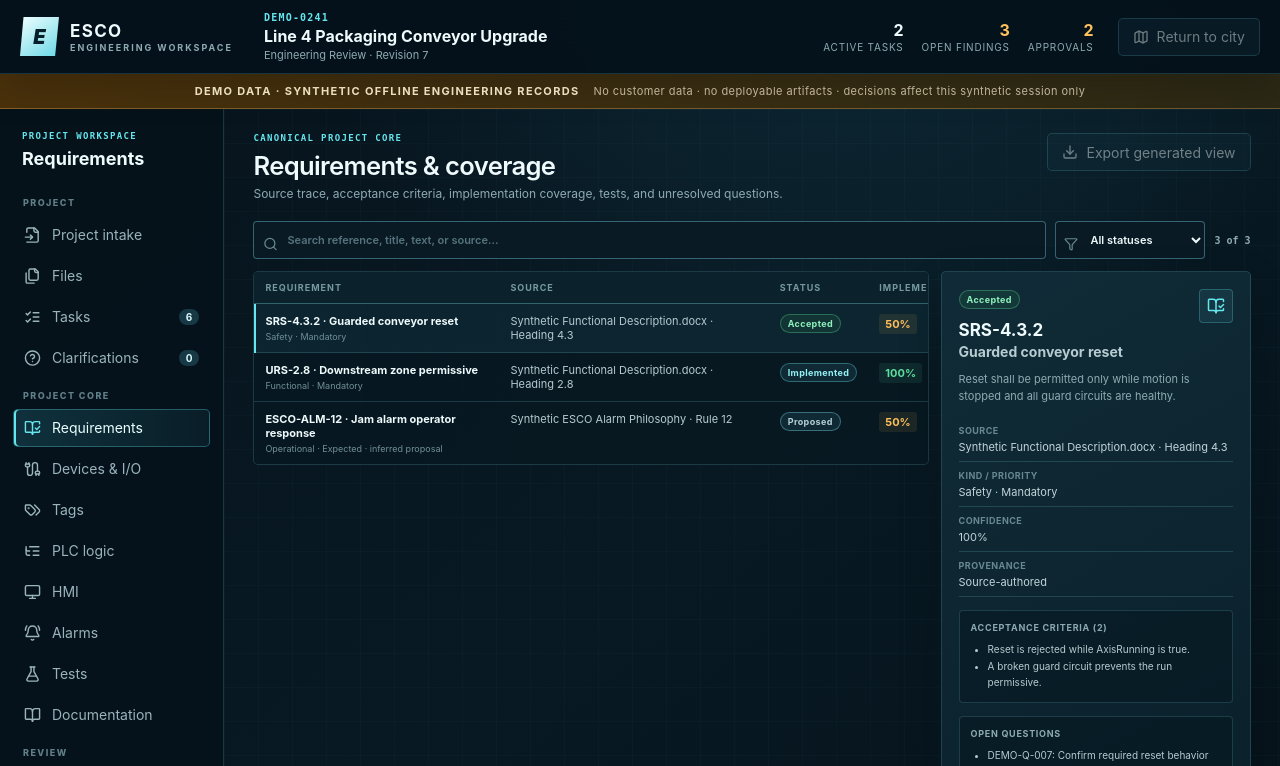
Test: EngineeringWorkspace › exposes synthetic HMI, alarm, test, and documentation records without claiming runtime verification
Later steps or results of the test are not shown.
What coordinates should you click on to do the following:
click the button "HMI"
I would click on:
 (112, 592)
Its box is left=13, top=573, right=210, bottom=611.
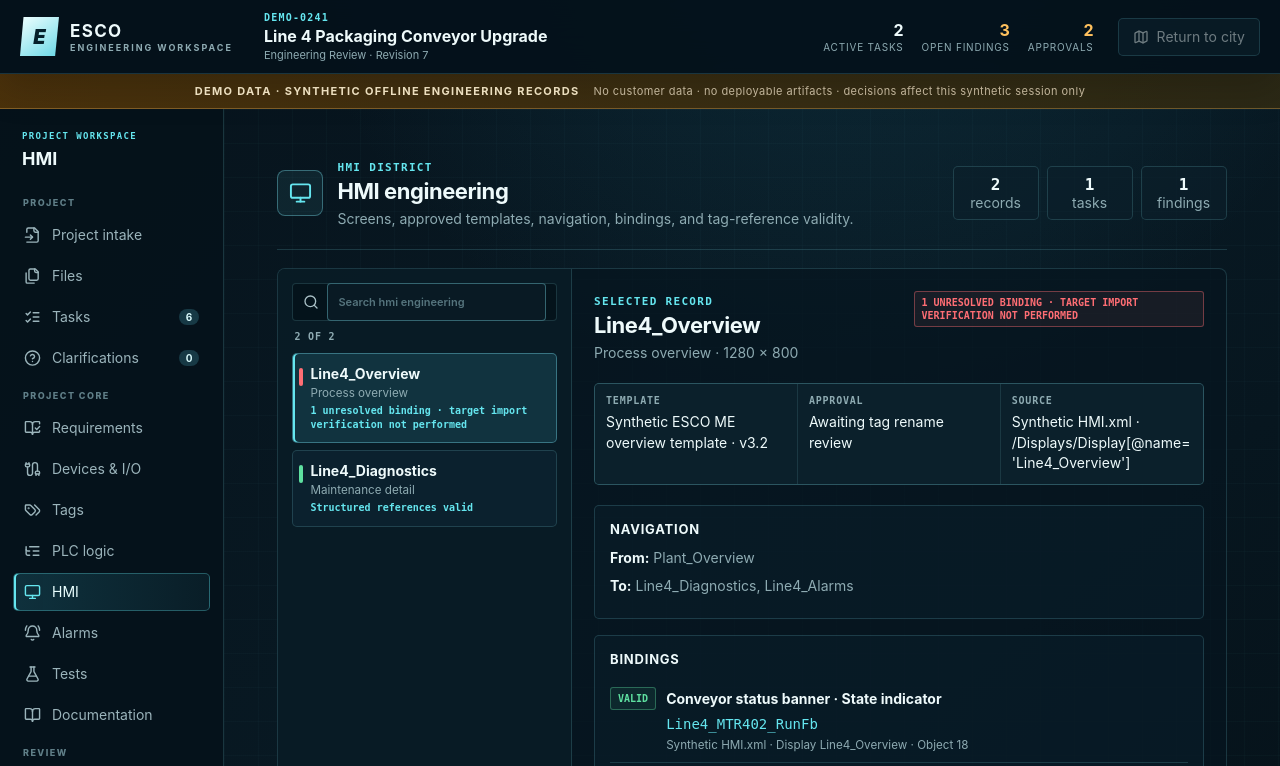
Now the heading "HMI engineering" is shown, box left=337, top=178, right=508, bottom=204
Now the heading "Line4_Overview" is shown, box left=594, top=312, right=760, bottom=338
Now the text "target import verification not performed" is shown 2 times, box left=310, top=404, right=544, bottom=431; left=914, top=291, right=1204, bottom=327
What coordinates should you click on to do the following:
click the button "Alarms"
I would click on:
 (112, 633)
Its box is left=13, top=614, right=210, bottom=652.
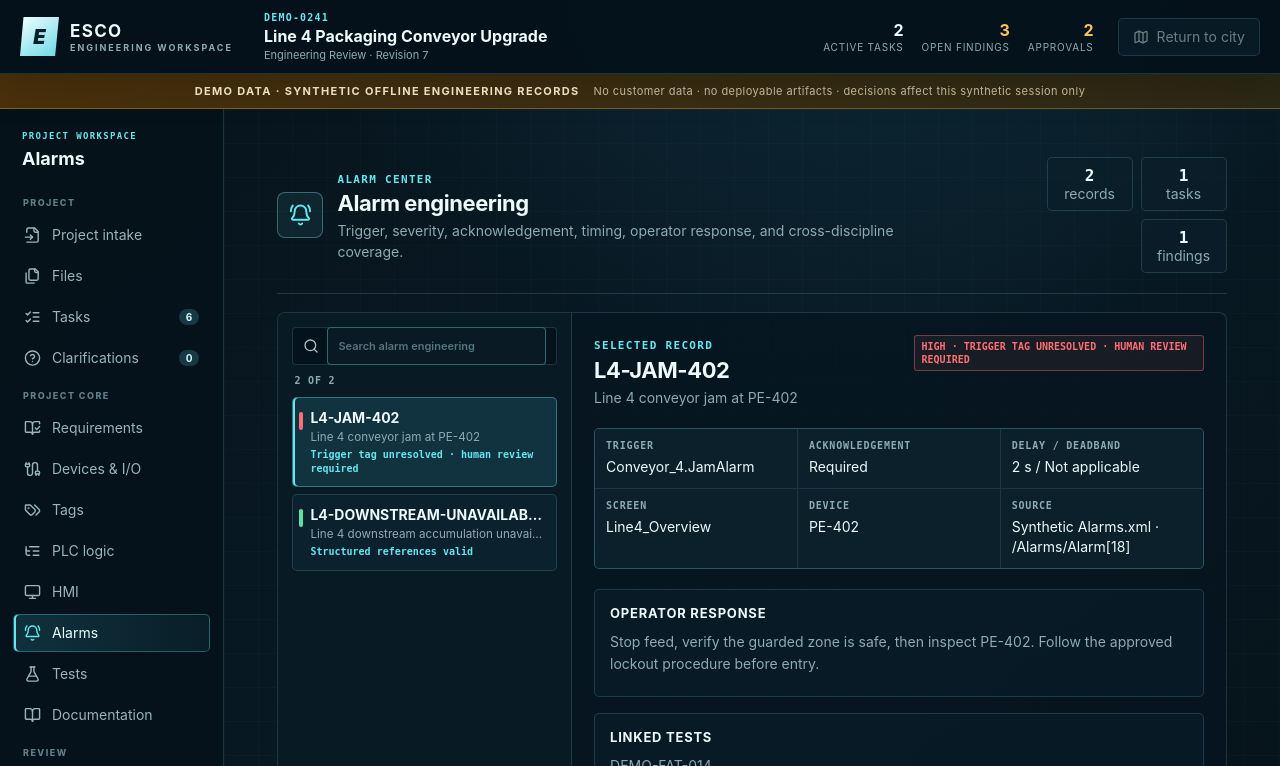
Now the text "Trigger tag unresolved · human review required" is shown 2 times, box left=310, top=448, right=544, bottom=475; left=914, top=335, right=1204, bottom=371
Now the heading "L4-JAM-402" is shown, box left=594, top=357, right=729, bottom=383
What coordinates should you click on to do the following:
click the button "Tests"
I would click on:
 (112, 674)
Its box is left=13, top=655, right=210, bottom=693.
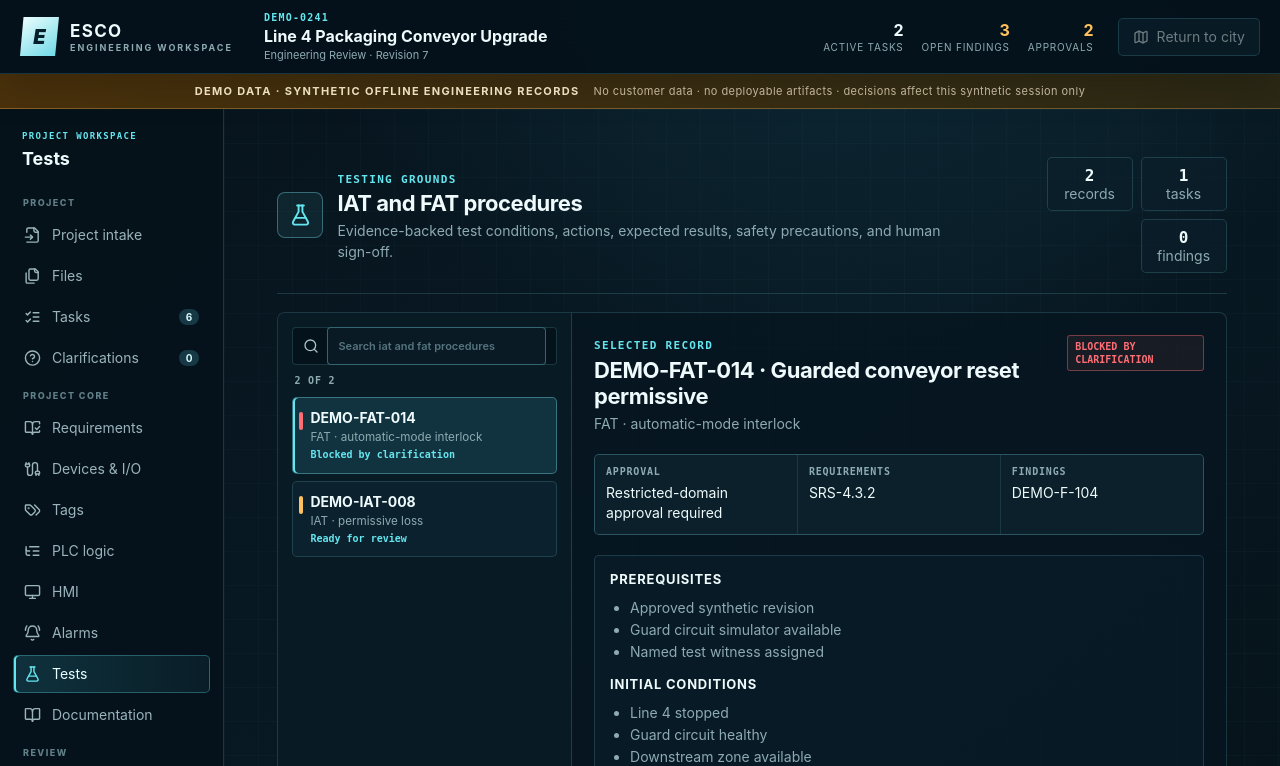
Now the heading "DEMO-FAT-014 · Guarded conveyor reset permissive" is shown, box left=594, top=357, right=1047, bottom=409
What coordinates should you click on to do the following:
click the button "Documentation"
I would click on:
 (112, 715)
Its box is left=13, top=696, right=210, bottom=734.
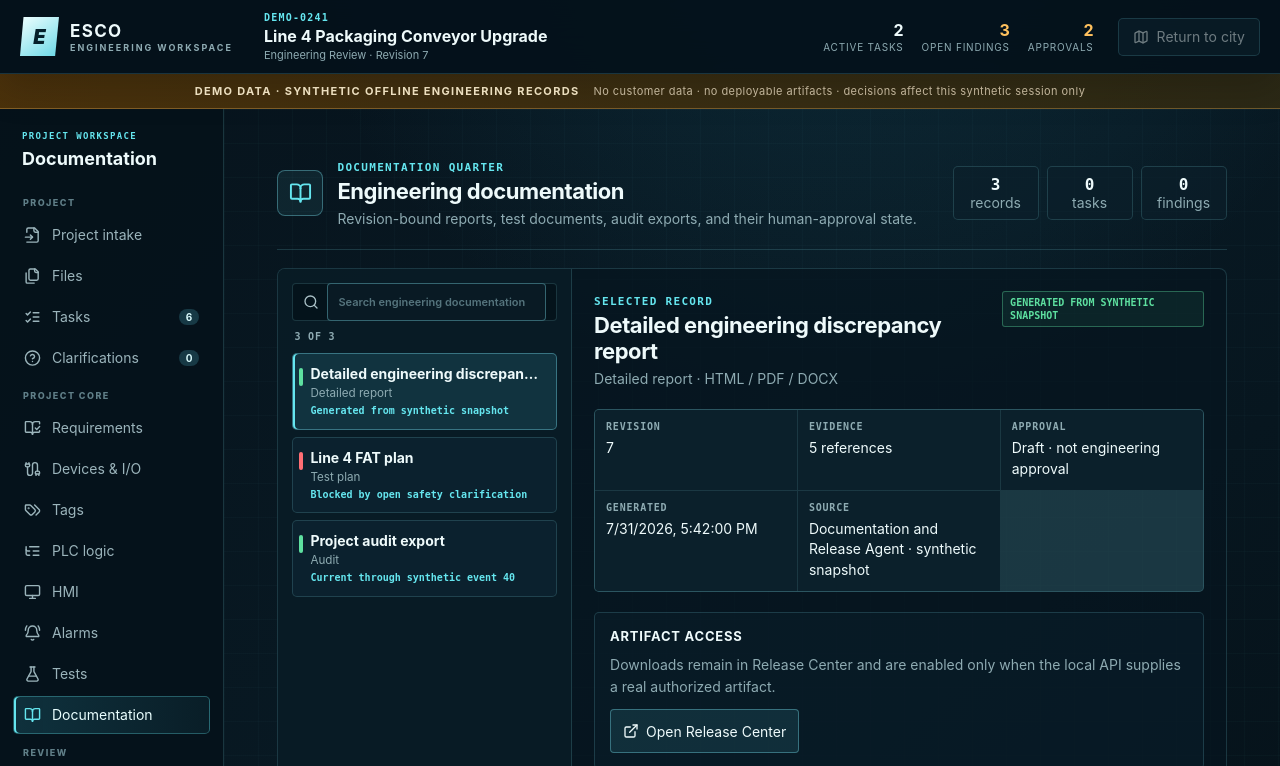
Now the heading "Detailed engineering discrepancy report" is shown, box left=594, top=312, right=982, bottom=364
